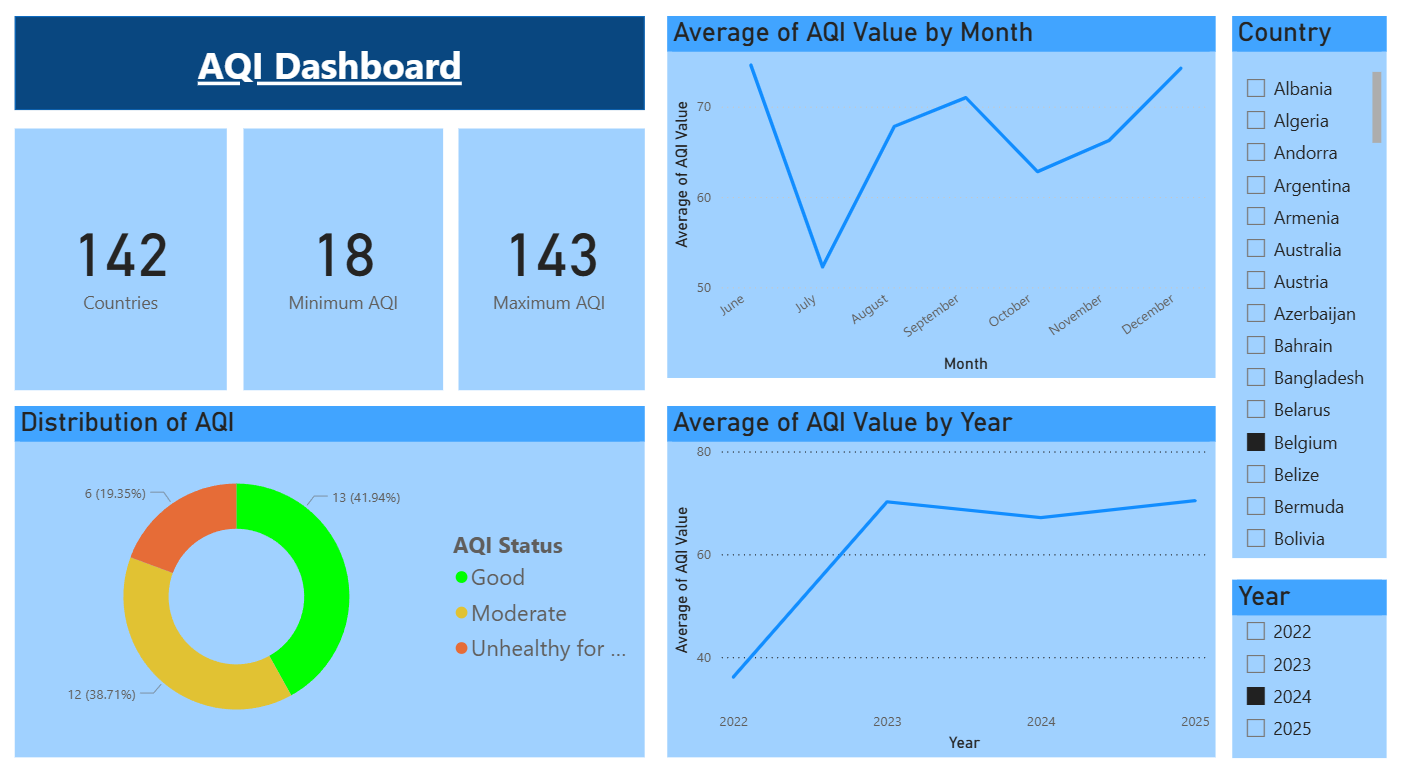

The dashboard page shown, as its layout file describes it:
{"tool":"powerbi","page":{"name":"Page 1","canvas":[1280,720],"ordinal":0},"visuals":[{"type":"lineChart","fields":{"Category":["aqi.Date.Variation.Date Hierarchy.Month","aqi.Date.Variation.Date Hierarchy.Day"],"Y":["Avg(aqi.AQI Value)"]},"box":[610,22.3,494.1,326.6],"z":0},{"type":"donutChart","title":"Distribution of AQI","fields":{"Category":["aqi.Status"],"Y":["CountNonNull(aqi.Status)"]},"box":[20.9,374.1,568.1,316.9],"z":1000},{"type":"slicer","title":"Country","fields":{"Values":["aqi.Country"]},"box":[1119.5,22.3,139.6,488.5],"z":2000},{"type":"slicer","title":"Year","fields":{"Values":["aqi.Date.Variation.Date Hierarchy.Year"]},"box":[1119.5,530.4,139.6,160.5],"z":3000},{"type":"shape","box":[20.9,22.3,568.1,85.1],"z":4000},{"type":"card","fields":{"Values":["Count(aqi.Country)"]},"box":[20.9,124.2,191.2,235.9],"z":5000},{"type":"lineChart","fields":{"Category":["aqi.Date.Variation.Date Hierarchy.Year","aqi.Date.Variation.Date Hierarchy.Quarter","aqi.Date.Variation.Date Hierarchy.Month","aqi.Date.Variation.Date Hierarchy.Day"],"Y":["Avg(aqi.AQI Value)"]},"box":[610,374.1,494.1,316.9],"z":6000},{"type":"card","fields":{"Values":["Min(aqi.AQI Value)"]},"box":[227.5,124.2,180.1,235.9],"z":6001},{"type":"card","fields":{"Values":["Max(aqi.AQI Value)"]},"box":[421,124,168,236],"z":6002}]}

Visuals, with their boxes in screenshot pixels (x1, y1, x2, y2), scaled from the page's 1280x720 canvas onto the 1405x783 screenshot:
lineChart - aqi.Date.Variation.Date Hierarchy.Month x aqi.Date.Variation.Date Hierarchy.Day: (670, 24, 1212, 379)
"Distribution of AQI" donutChart: (23, 407, 647, 751)
"Country" slicer: (1229, 24, 1382, 555)
"Year" slicer: (1229, 577, 1382, 751)
shape: (23, 24, 647, 117)
card - Count(aqi.Country): (23, 135, 233, 392)
lineChart - aqi.Date.Variation.Date Hierarchy.Year x aqi.Date.Variation.Date Hierarchy.Quarter: (670, 407, 1212, 751)
card - Min(aqi.AQI Value): (250, 135, 447, 392)
card - Max(aqi.AQI Value): (462, 135, 647, 391)
